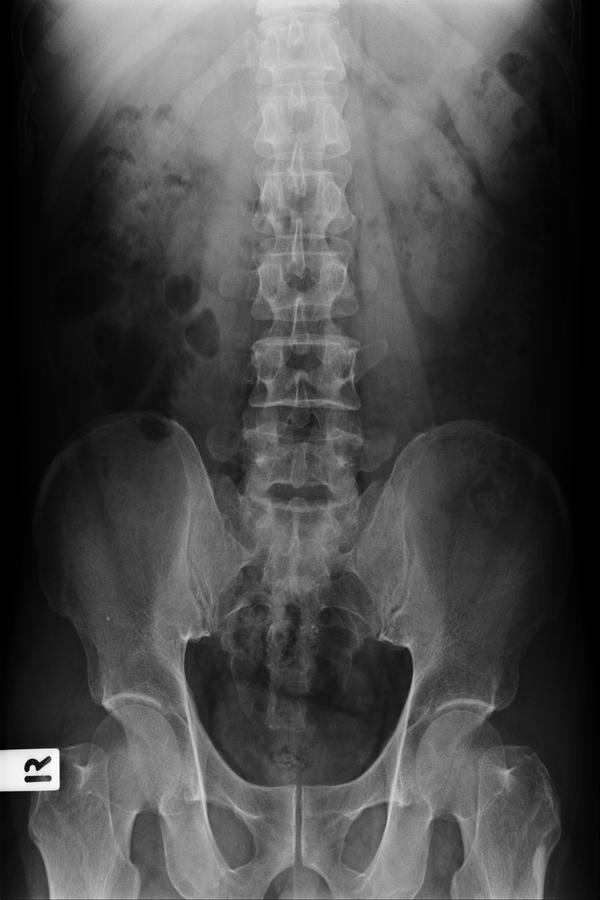lumbar scoliosis: (243, 10, 378, 568)
